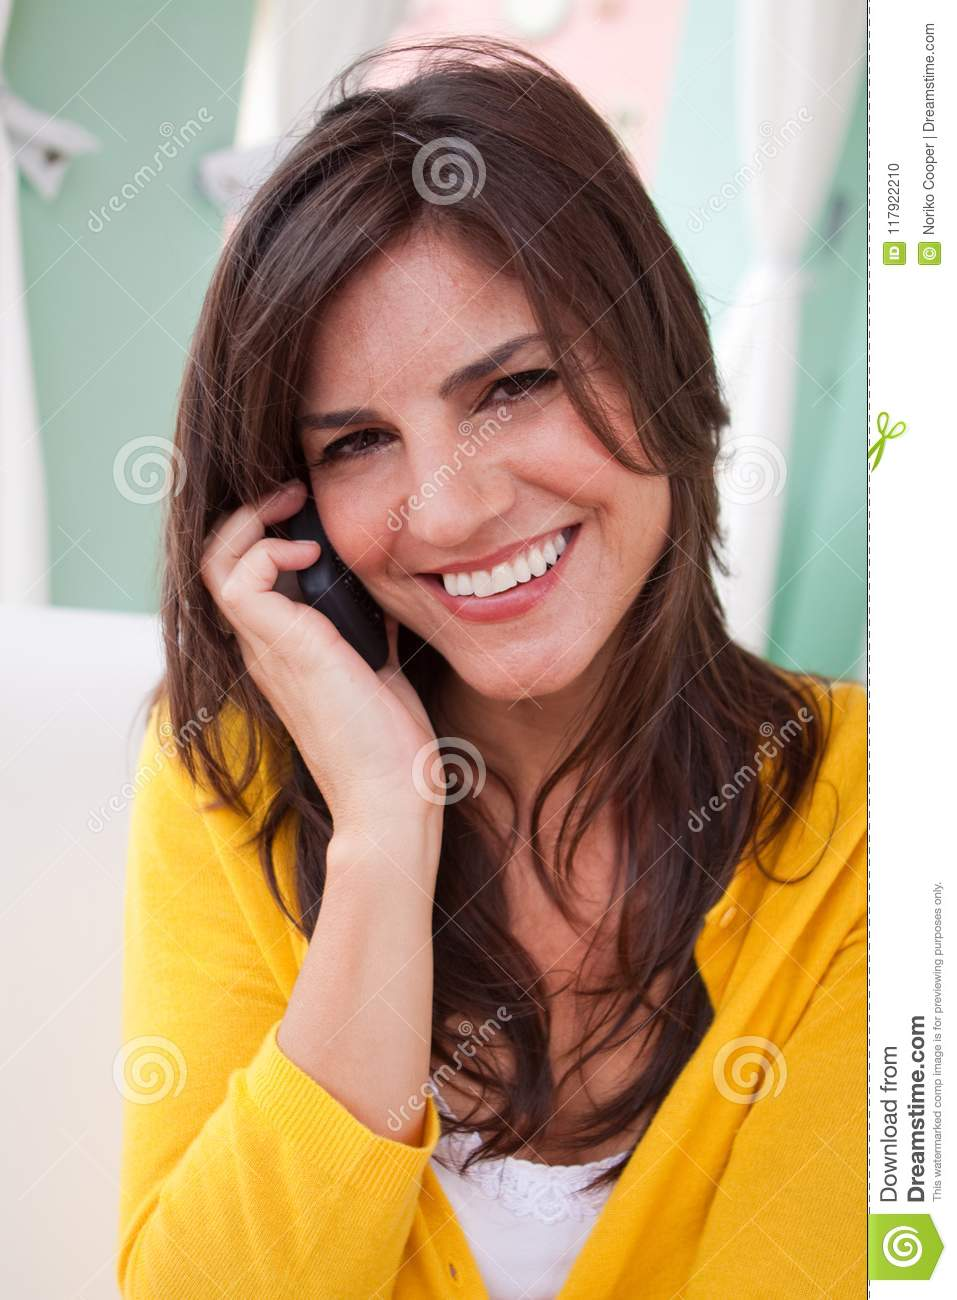phone: (261, 406, 401, 687)
talk: (204, 313, 650, 876)
